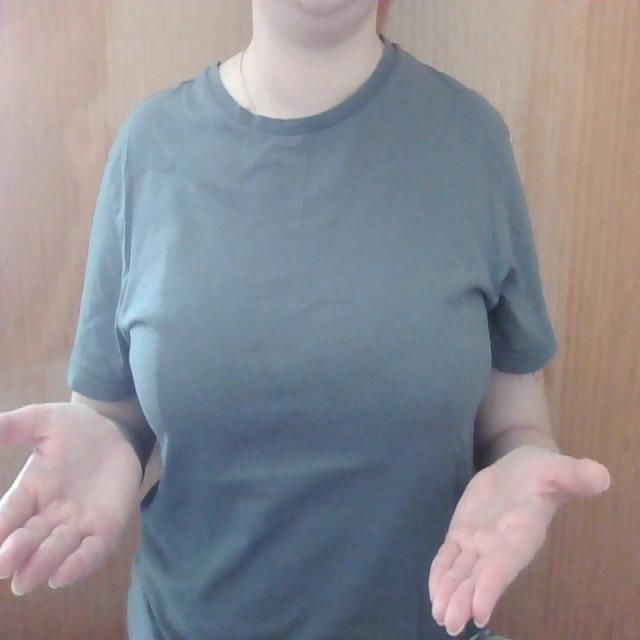Evet: (0, 397, 612, 639)
